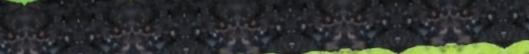Tomato Septoria leaf spot: (238, 41, 300, 54), (227, 0, 291, 10)
